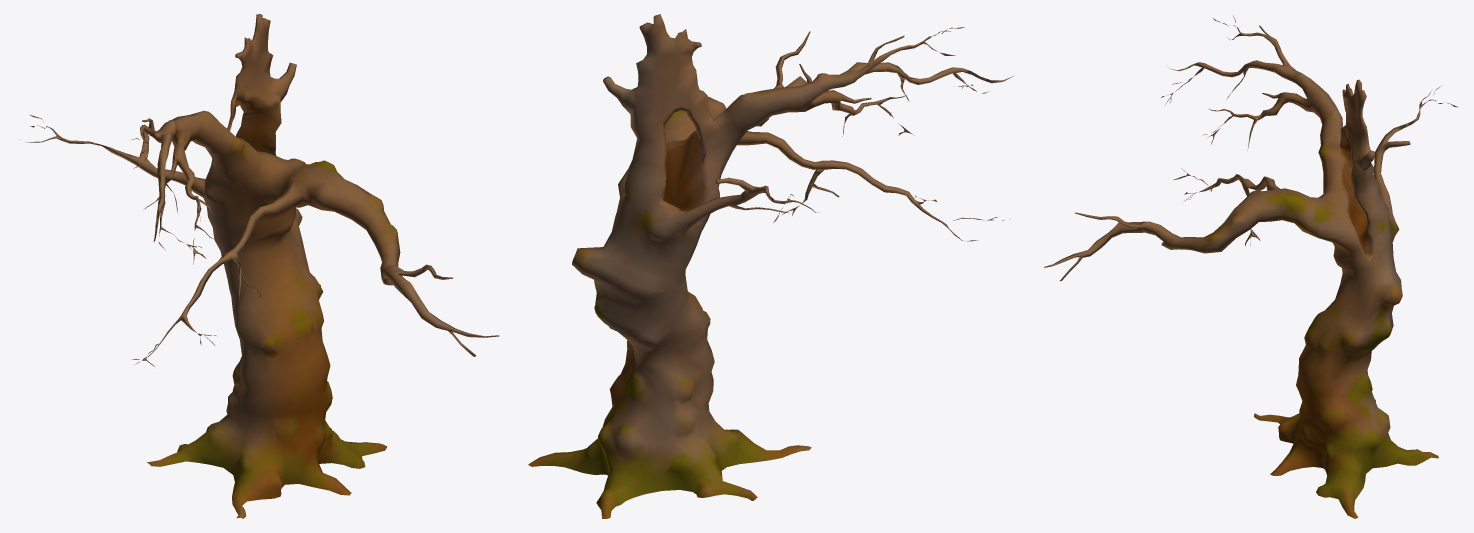
File: dead_3.glb
3 views of the same model, side by side, from view 1: azimuth 30°, elevation 25°; view 2: azimuth 150°, elevation 25°; view 3: azimuth 270°, elevation 25° (orthographic). The views are drawn at different scales.
Parts seen in each view (by area): view 1: tripo_node_eb7acf55-19d8-4e06-931f-bea9516c56b9; view 2: tripo_node_eb7acf55-19d8-4e06-931f-bea9516c56b9; view 3: tripo_node_eb7acf55-19d8-4e06-931f-bea9516c56b9.
Part boxes in pixels (left/top/right/bottom): tripo_node_eb7acf55-19d8-4e06-931f-bea9516c56b9: left=19, top=14, right=499, bottom=518; tripo_node_eb7acf55-19d8-4e06-931f-bea9516c56b9: left=528, top=14, right=1014, bottom=518; tripo_node_eb7acf55-19d8-4e06-931f-bea9516c56b9: left=1044, top=16, right=1458, bottom=518.
Bounding box in the file's own units: 10.85 × 13.3 × 12.94.
Materials: 1 (1 with a texture image).
